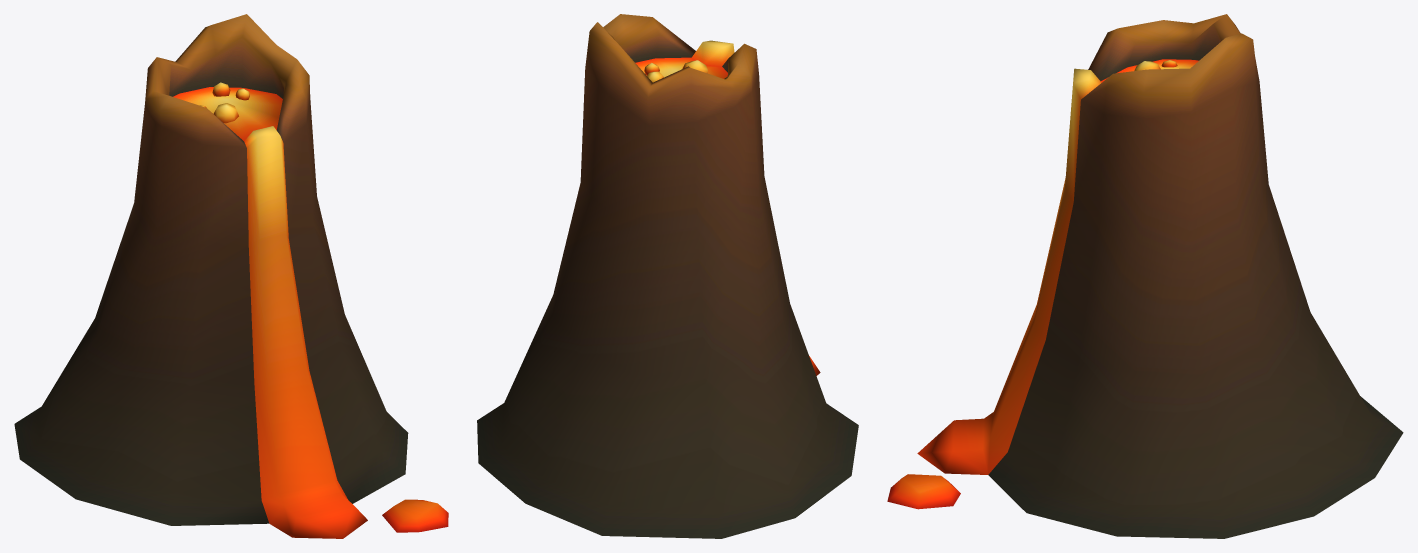
Rendered from m_Volcano01_B.fbx.
The picture shows the model from 3 angles, left to right: view 1: azimuth 30°, elevation 25°; view 2: azimuth 150°, elevation 25°; view 3: azimuth 270°, elevation 25°; orthographic projection. The views are drawn at different scales.
Parts seen in each view (by area): view 1: m_Volcano01_B; view 2: m_Volcano01_B; view 3: m_Volcano01_B.
Boxes of the visible parts, x1,y1,x2,y2 form: m_Volcano01_B: (14,14,448,538); m_Volcano01_B: (477,14,858,538); m_Volcano01_B: (887,14,1403,538).
Bounding box in the file's own units: 729 × 881 × 936.
